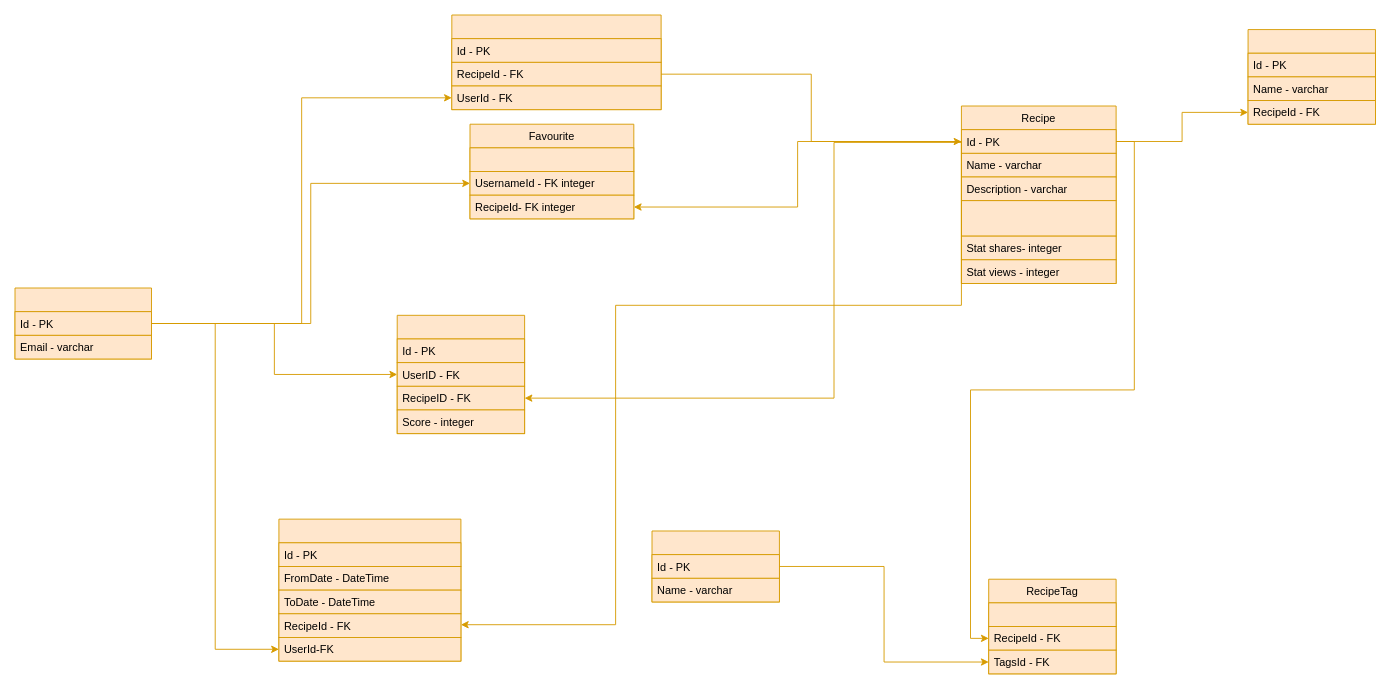
Some shapes in this 1390 by 689 pixel diagram are drawn without their labels. The box of each missing label's shape, as (x1, y1, x2, y2) in pixels:
Id- PK: (469, 147, 634, 172)
Ingredient: (1247, 29, 1375, 124)
Plan of meals: (278, 518, 461, 661)
Rating: (396, 314, 525, 434)
RecipeTag - PK: (988, 602, 1116, 627)
Shopping list: (451, 14, 661, 110)
Tags: (651, 530, 779, 602)
Time to prepare - varchar: (961, 200, 1116, 236)
User: (14, 287, 152, 359)
